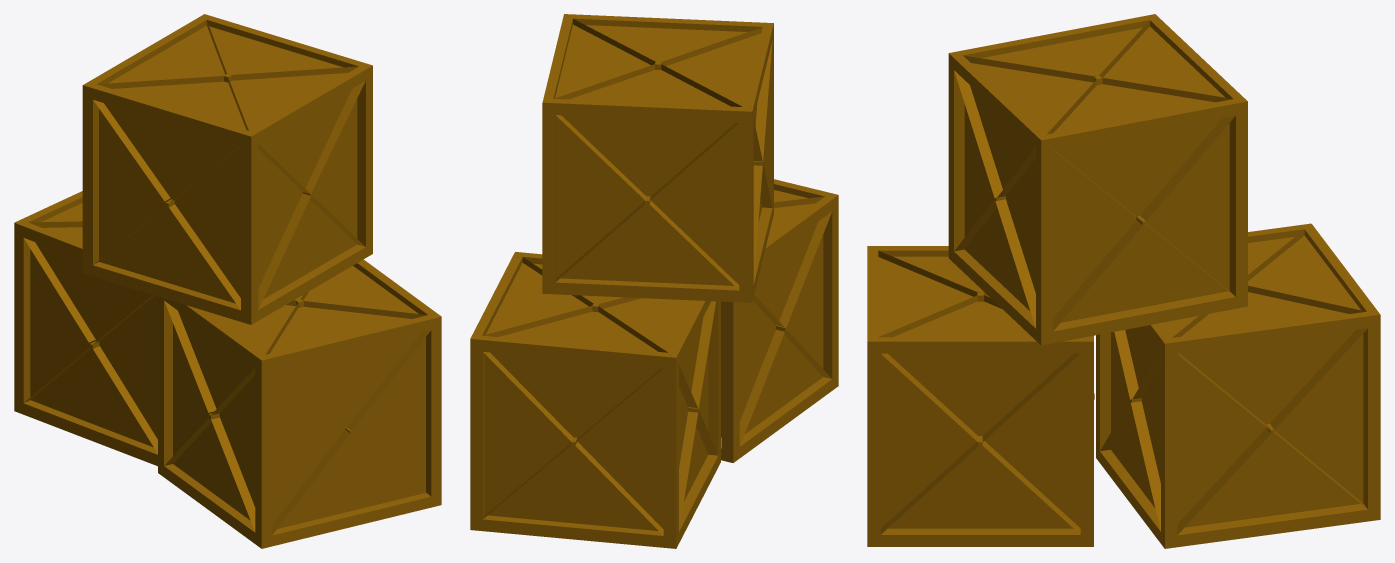
Rendered from Crate3.fbx.
3 renders of one model, left to right at view 1: azimuth 30°, elevation 25°; view 2: azimuth 150°, elevation 25°; view 3: azimuth 270°, elevation 25°, orthographic. The views are drawn at different scales.
Visible parts, largest first — view 1: Cube.002, Cube, Cube.001; view 2: Cube.002, Cube.001, Cube; view 3: Cube.002, Cube.001, Cube.
Part boxes in pixels (x1,y1,x2,y2): Cube.002: [82, 14, 372, 324]; Cube: [158, 259, 441, 548]; Cube.001: [14, 191, 157, 466]; Cube.002: [542, 14, 773, 302]; Cube.001: [470, 252, 720, 548]; Cube: [721, 179, 838, 462]; Cube.002: [948, 14, 1247, 345]; Cube.001: [1096, 223, 1380, 548]; Cube: [867, 246, 1094, 546].
Bounding box in the file's own units: 264 × 403 × 453.
